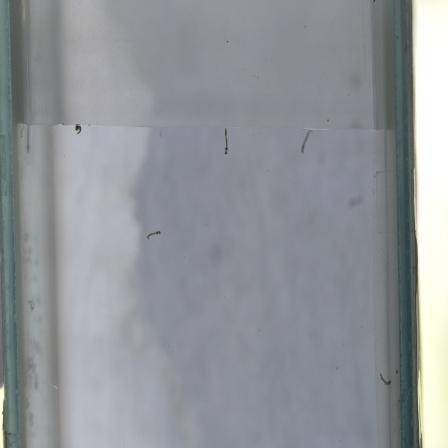Jentik-Nyamuk: (70, 119, 91, 142), (220, 126, 233, 159)
